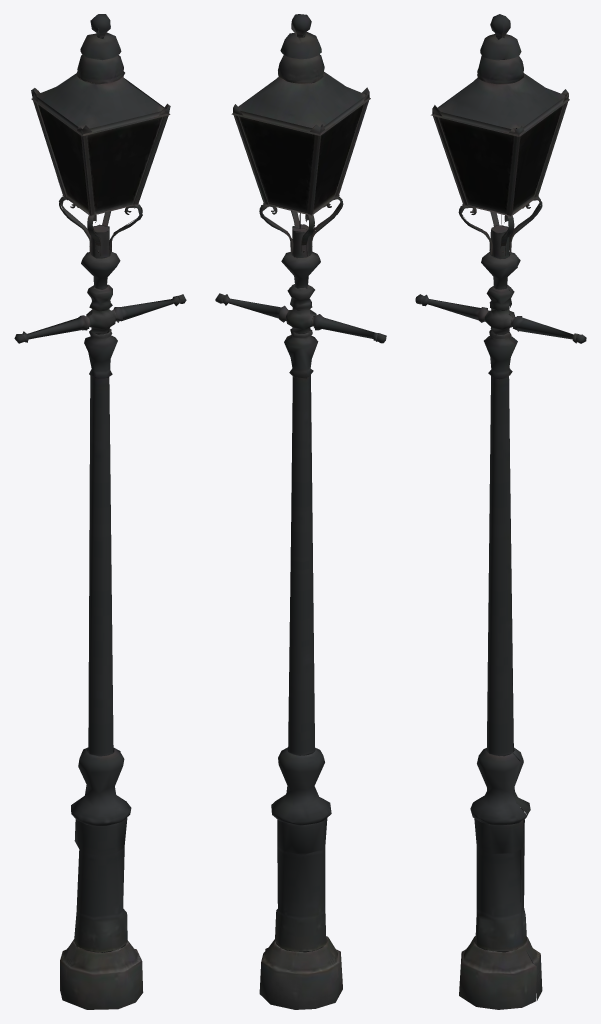
File: ph_street_lamp_01.glb
The picture shows the model from 3 angles, left to right: view 1: azimuth 30°, elevation 25°; view 2: azimuth 150°, elevation 25°; view 3: azimuth 330°, elevation 25°; orthographic projection.
Parts seen in each view (by area): view 1: street_lamp_01; view 2: street_lamp_01; view 3: street_lamp_01.
Boxes of the visible parts, bbox=[...] form: street_lamp_01: bbox=[14, 14, 186, 1009]; street_lamp_01: bbox=[215, 14, 386, 1009]; street_lamp_01: bbox=[415, 14, 586, 1009].
Size of the model in its own units: 0.7038 by 3.87 by 0.3686.
Materials: 3 (3 with a texture image).
